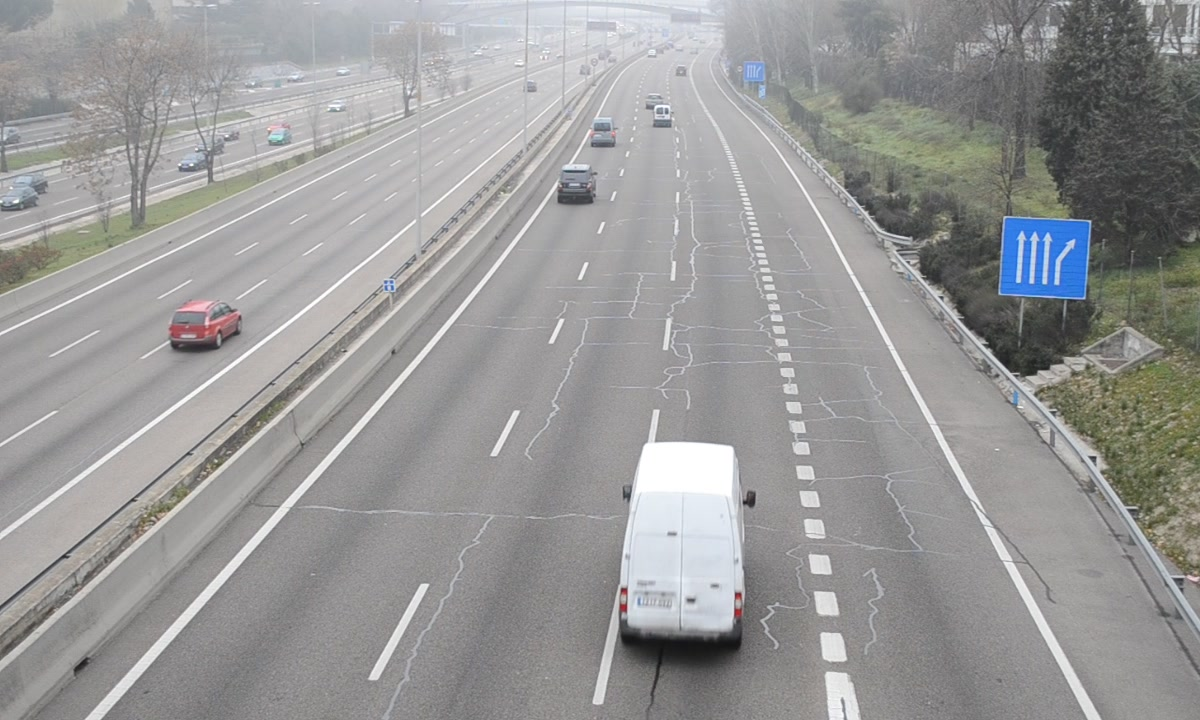car: (557, 165, 595, 202)
van: (615, 443, 744, 651), (588, 117, 615, 149)
